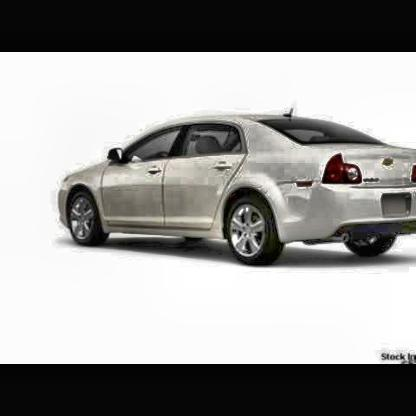Chevrolet Malibu Hybrid Sedan 2010: (58, 112, 416, 268)
